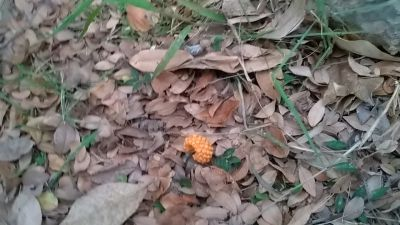eggs: (182, 133, 215, 165)
